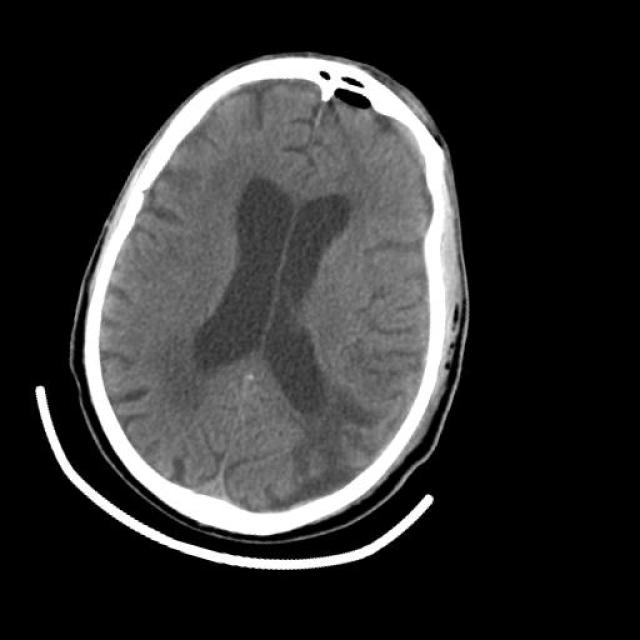Subdural: (362, 93, 486, 208)
